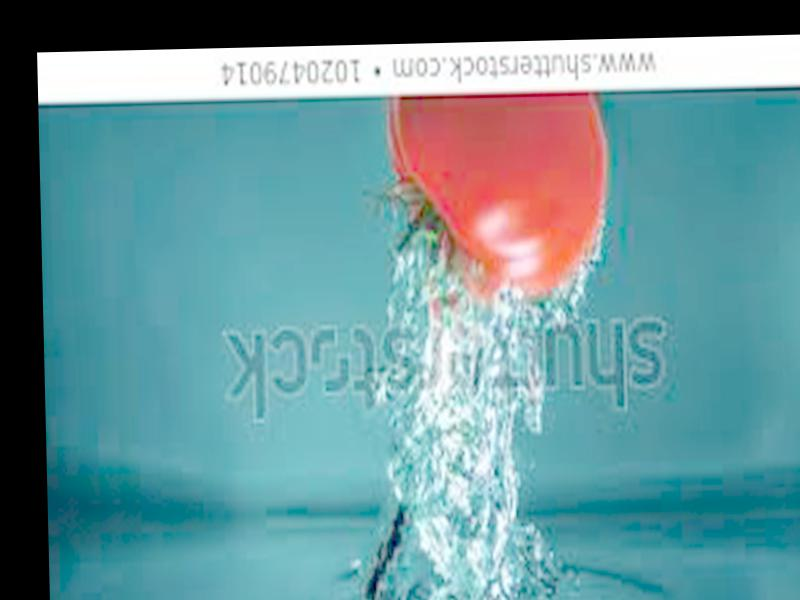Tomato: (385, 90, 608, 301)
